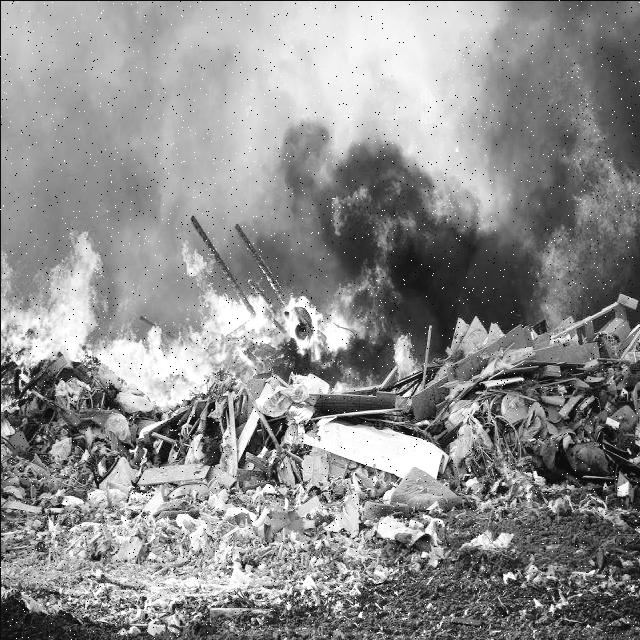api: (1, 168, 466, 437), (529, 47, 640, 348)
asap: (1, 1, 380, 352), (223, 89, 555, 362), (432, 1, 640, 336)
